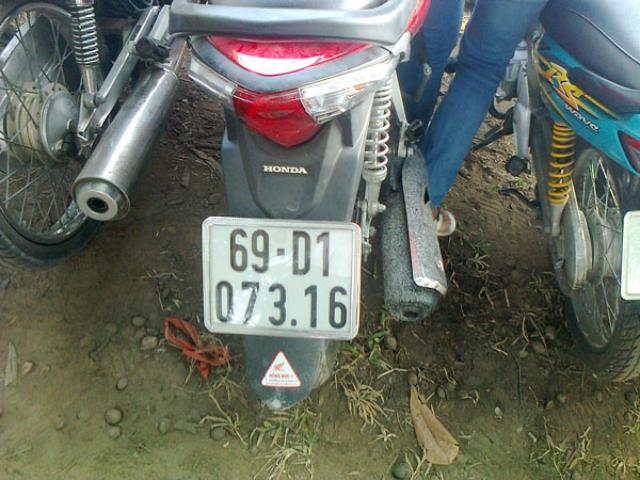plate: (205, 219, 358, 339)
